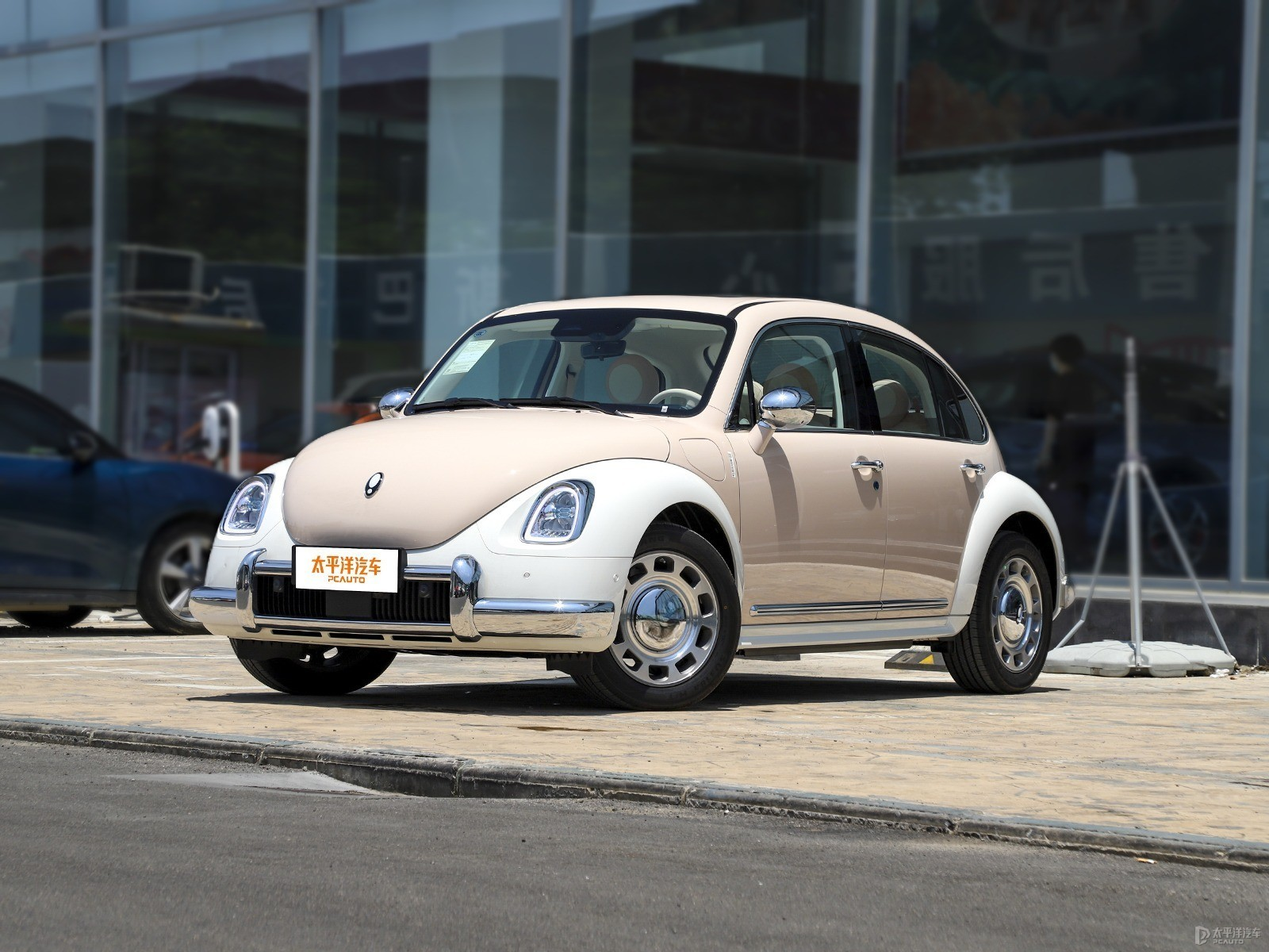ORA: (365, 472, 384, 498)
